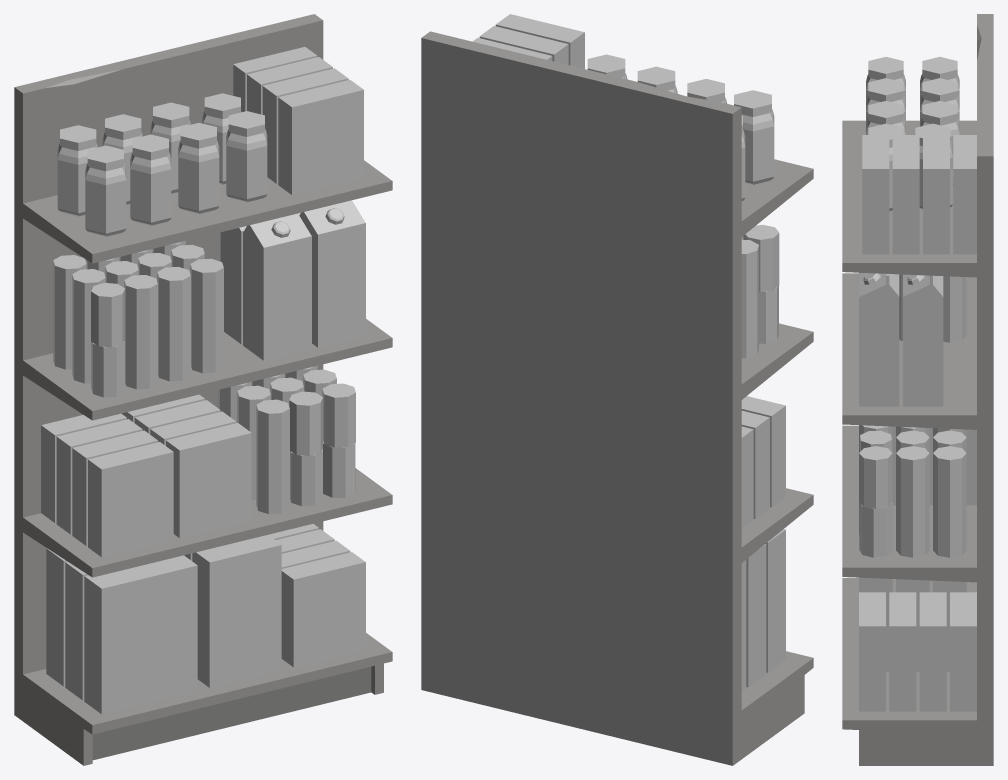
File: SM_Props_Interior_SuperMarket_Shelves_Small_Preset_01.fbx
3 views of the same model, side by side, from view 1: azimuth 30°, elevation 25°; view 2: azimuth 150°, elevation 25°; view 3: azimuth 270°, elevation 25° (orthographic). The views are drawn at different scales.
Visible parts, largest first — view 1: SM_Props_Interior_SuperMarket_Shelves_Small_Preset_01_Produc, SM_Props_Interior_SuperMarket_Shelves_Small_Preset_01; view 2: SM_Props_Interior_SuperMarket_Shelves_Small_Preset_01, SM_Props_Interior_SuperMarket_Shelves_Small_Preset_01_Produc; view 3: SM_Props_Interior_SuperMarket_Shelves_Small_Preset_01_Produc, SM_Props_Interior_SuperMarket_Shelves_Small_Preset_01.
Boxes of the visible parts, <box> form: SM_Props_Interior_SuperMarket_Shelves_Small_Preset_01_Produc: <box>41,47,365,714</box>; SM_Props_Interior_SuperMarket_Shelves_Small_Preset_01: <box>14,14,392,765</box>; SM_Props_Interior_SuperMarket_Shelves_Small_Preset_01: <box>421,31,813,765</box>; SM_Props_Interior_SuperMarket_Shelves_Small_Preset_01_Produc: <box>473,14,785,691</box>; SM_Props_Interior_SuperMarket_Shelves_Small_Preset_01_Produc: <box>859,56,976,711</box>; SM_Props_Interior_SuperMarket_Shelves_Small_Preset_01: <box>842,14,993,765</box>.
Bounding box in the file's own units: 100 × 200 × 45.
